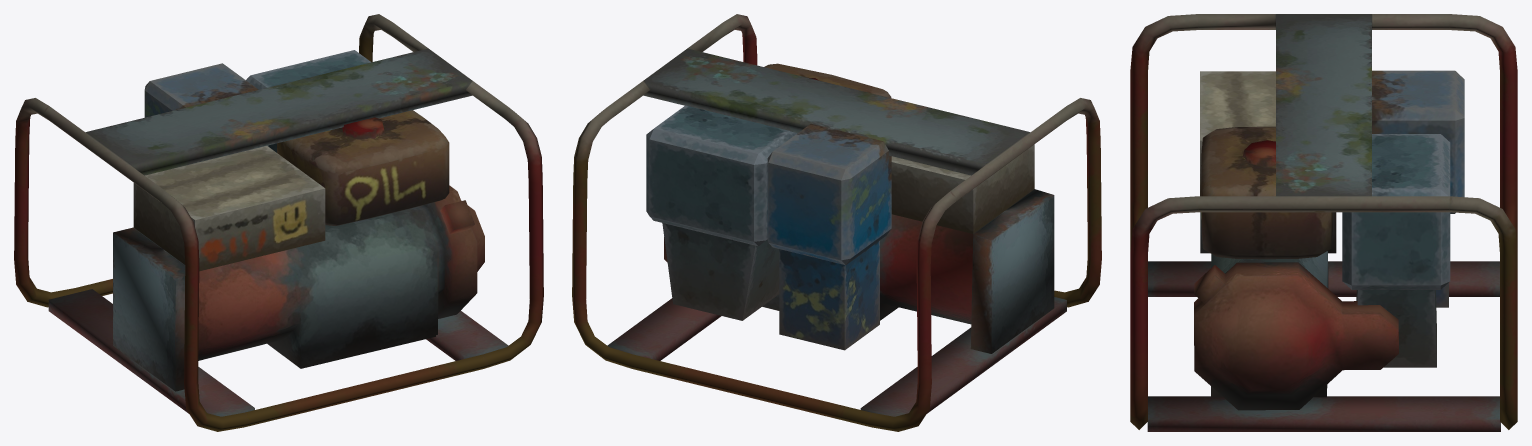
Rendered from stylized_electric_generator2k.glb.
3 views of the same model, side by side, from view 1: azimuth 30°, elevation 25°; view 2: azimuth 150°, elevation 25°; view 3: azimuth 270°, elevation 25° (orthographic). The views are drawn at different scales.
Parts seen in each view (by area): view 1: Generator And Chair.004; view 2: Generator And Chair.004; view 3: Generator And Chair.004.
Part boxes in pixels (x1=…): Generator And Chair.004: x1=14, y1=14, x2=543, y2=431; Generator And Chair.004: x1=572, y1=14, x2=1101, y2=431; Generator And Chair.004: x1=1130, y1=14, x2=1517, y2=431.
Size of the model in its own units: 1.11 by 0.677 by 0.9529.
1 material, 1 textured.
